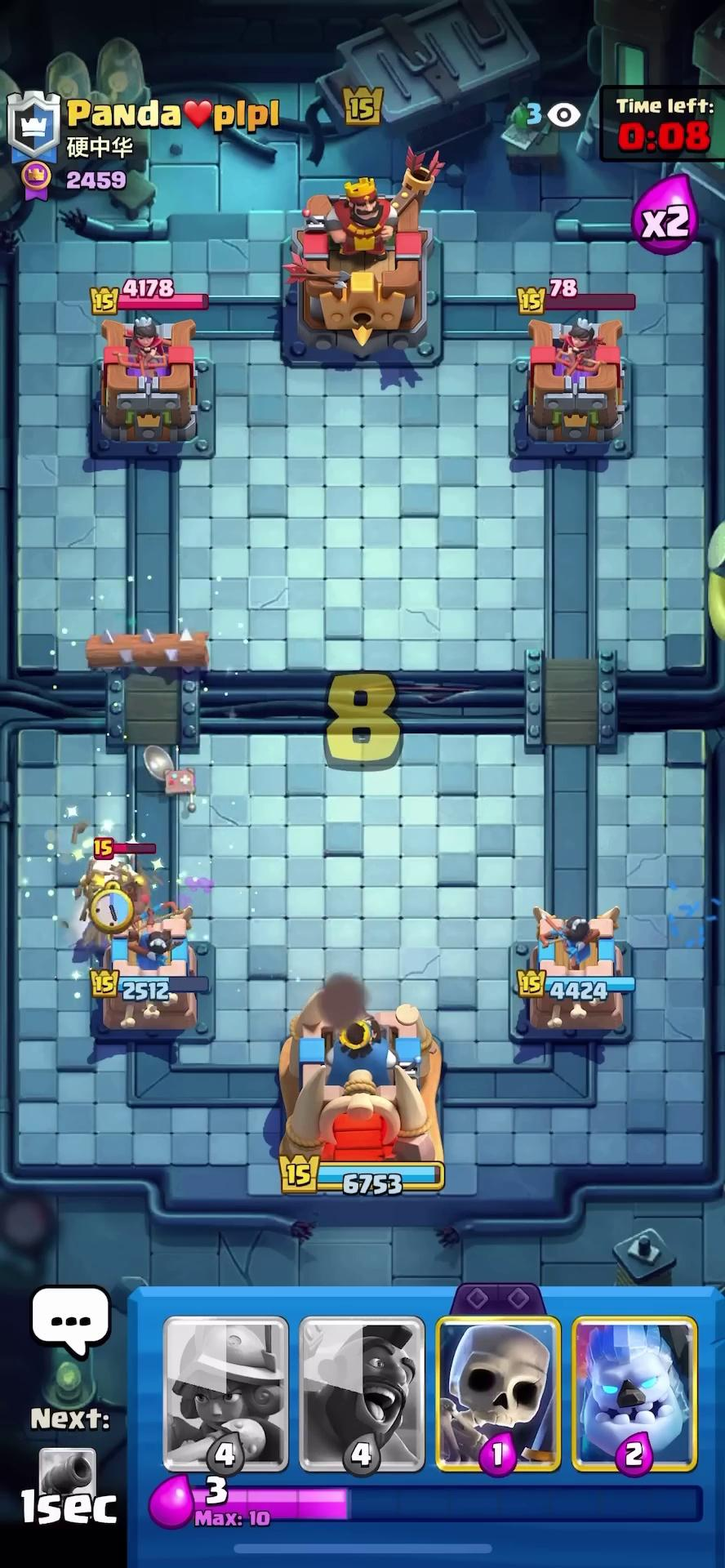log: (67, 617, 231, 682)
